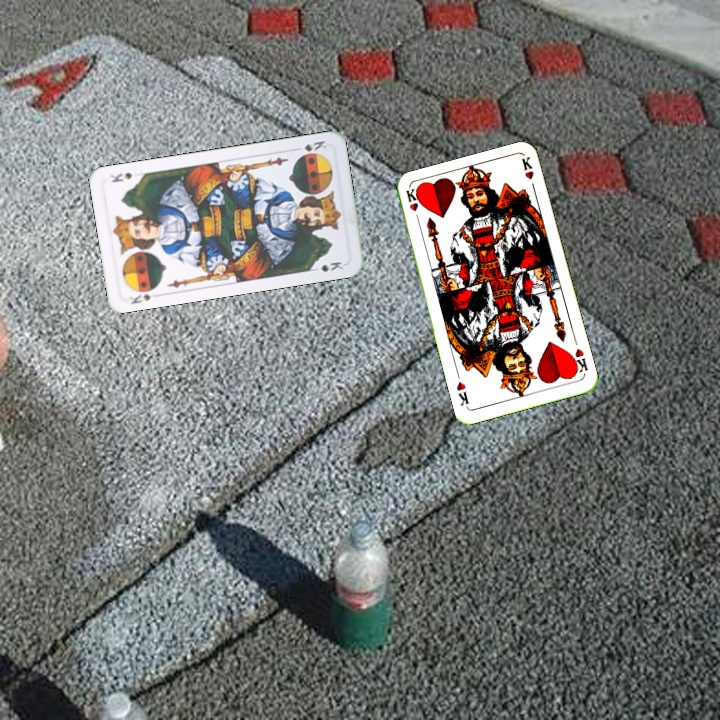HK: (402, 185, 422, 226), (567, 344, 590, 377)
SK: (289, 137, 330, 154), (125, 290, 154, 307)
